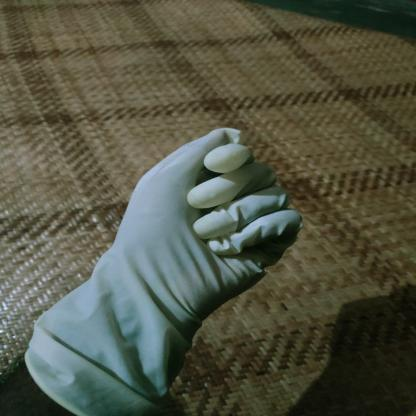gloved_hand: (22, 126, 305, 415)
